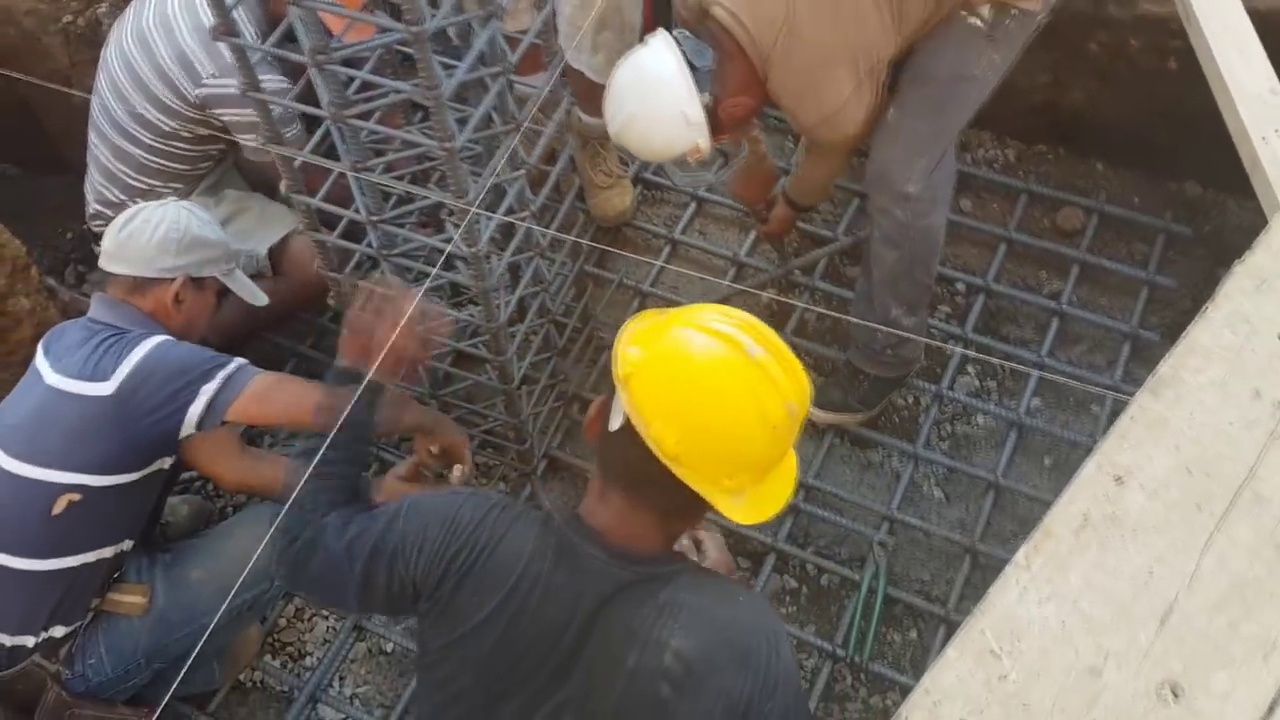helmet: (609, 300, 812, 547), (610, 29, 711, 171)
helmet-off: (88, 197, 283, 340)
helmet-on: (560, 288, 810, 568), (600, 6, 777, 179)
person: (0, 160, 477, 714), (283, 289, 813, 716), (598, 0, 1059, 428), (81, 3, 402, 270)
